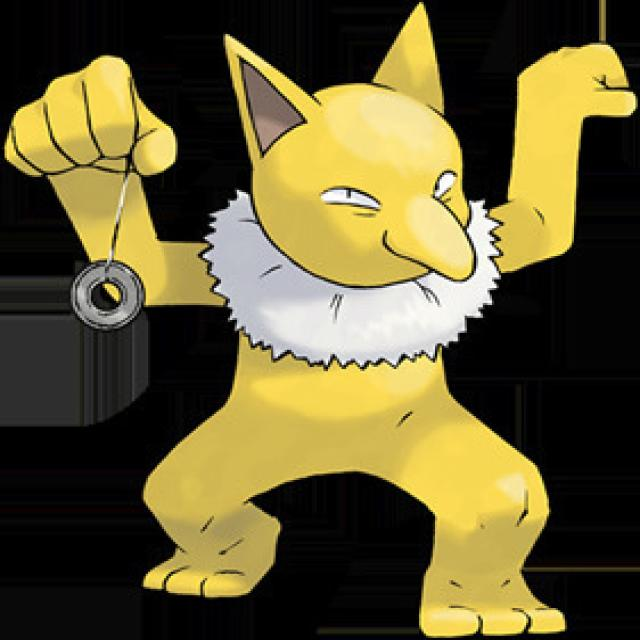Hypno: (196, 19, 552, 524)
